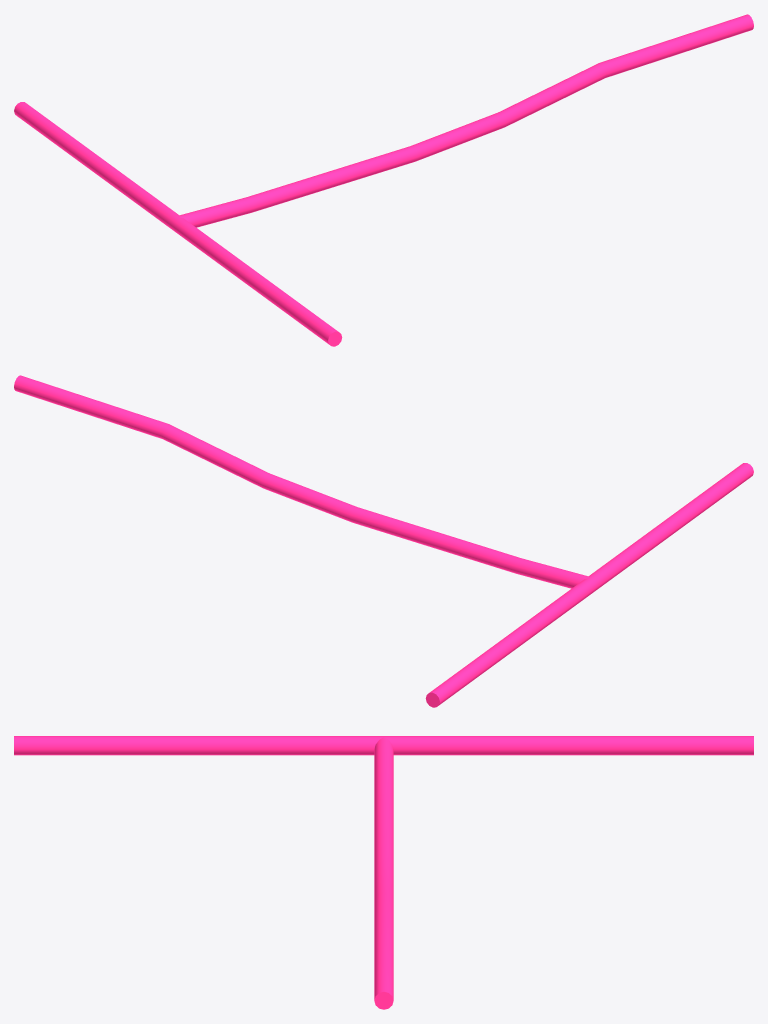
File: m2p_haul_truck_power.glb
3 renders of one model, top to bottom at view 1: azimuth 30°, elevation 25°; view 2: azimuth 150°, elevation 25°; view 3: azimuth 270°, elevation 25°, orthographic. The views are drawn at different scales.
Parts seen in each view (by area): view 1: pwr; view 2: pwr; view 3: pwr.
Boxes of the visible parts, x1,y1,x2,y2 form: pwr: [14, 14, 753, 346]; pwr: [14, 375, 753, 707]; pwr: [14, 736, 753, 1009].
Size of the model in its own units: 4.9 by 0.6248 by 4.6.
